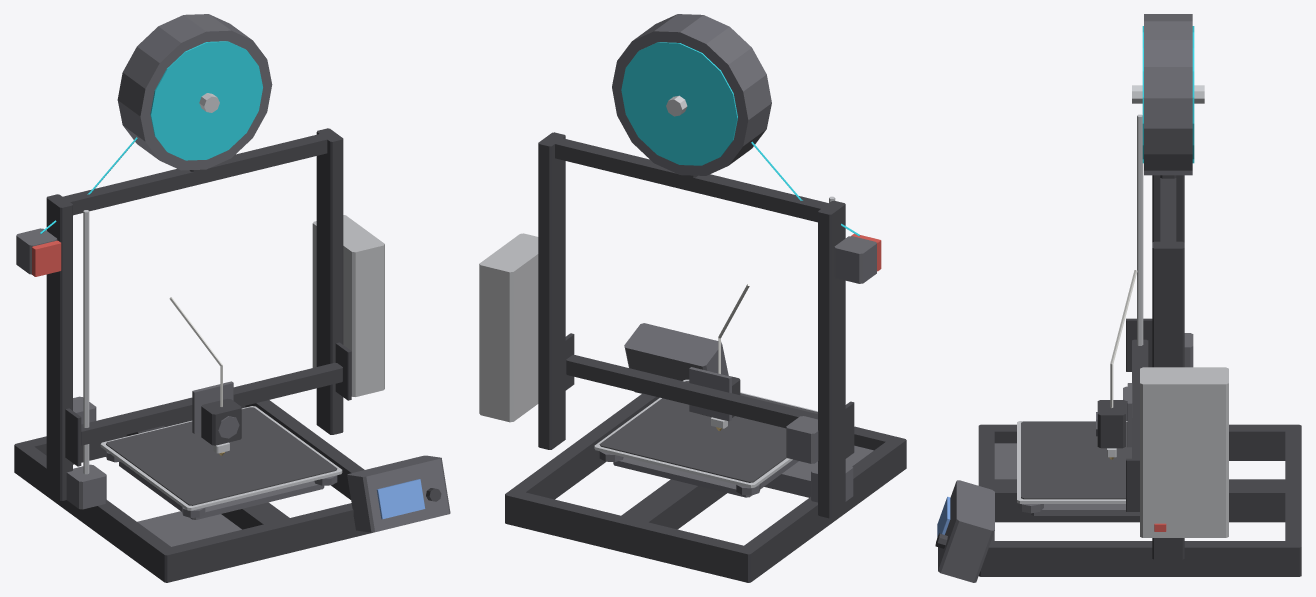
Rendered from impressora-3d.fbx.
3 views of the same model, side by side, from view 1: azimuth 30°, elevation 25°; view 2: azimuth 150°, elevation 25°; view 3: azimuth 270°, elevation 25° (orthographic). The views are drawn at different scales.
Visible parts, largest first — view 1: Estrutura, Mesa, Portico, Cabecote; view 2: Estrutura, Mesa, Portico, Cabecote; view 3: Estrutura, Mesa, Portico, Cabecote.
Part boxes in pixels (bbox=[...]): Estrutura: bbox=[14, 14, 450, 582]; Mesa: bbox=[100, 406, 342, 519]; Portico: bbox=[65, 342, 351, 466]; Cabecote: bbox=[169, 297, 241, 455]; Estrutura: bbox=[479, 14, 906, 582]; Mesa: bbox=[594, 379, 817, 497]; Portico: bbox=[565, 333, 854, 463]; Cabecote: bbox=[689, 284, 749, 430]; Estrutura: bbox=[935, 14, 1301, 582]; Mesa: bbox=[1017, 421, 1139, 515]; Portico: bbox=[1126, 318, 1193, 511]; Cabecote: bbox=[1096, 270, 1137, 459].
Bounding box in the file's own units: 0.534 × 0.675 × 0.4535.
1 material, 1 textured.
